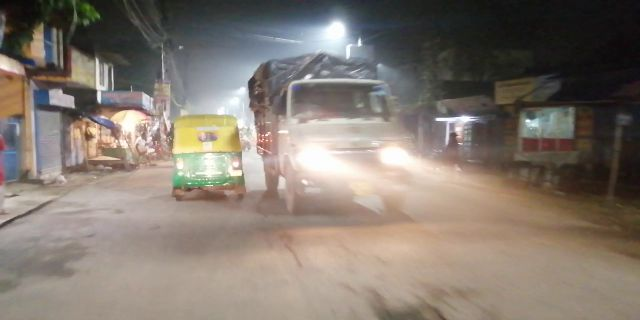Autorickshaw: (170, 108, 246, 195)
Truck: (254, 51, 421, 212)
